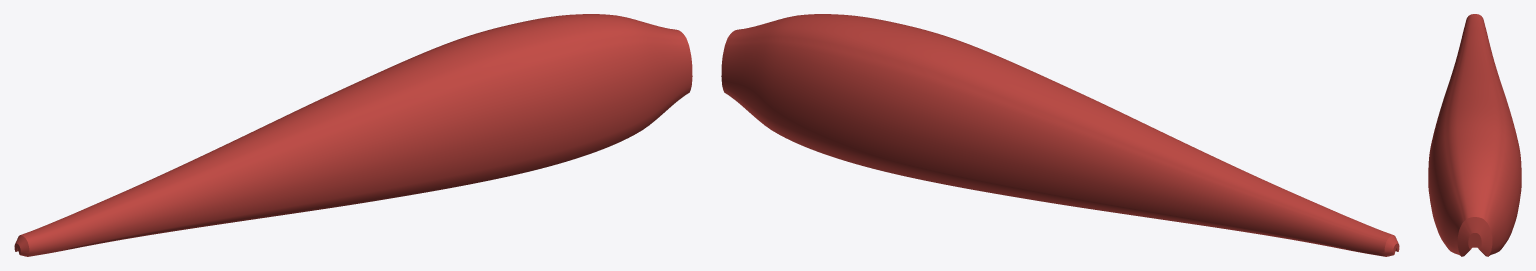
The model's file is chopper_5_lod1.glb.
The picture shows the model from 3 angles, left to right: view 1: azimuth 30°, elevation 25°; view 2: azimuth 150°, elevation 25°; view 3: azimuth 270°, elevation 25°; orthographic projection. The views are drawn at different scales.
Visible parts, largest first — view 1: chopper_5_lod1; view 2: chopper_5_lod1; view 3: chopper_5_lod1.
Part boxes in pixels (left/top/right/bottom): chopper_5_lod1: left=14, top=14, right=692, bottom=256; chopper_5_lod1: left=721, top=14, right=1399, bottom=256; chopper_5_lod1: left=1428, top=14, right=1521, bottom=256.
Size of the model in its own units: 1.06 by 0.1797 by 0.1754.
